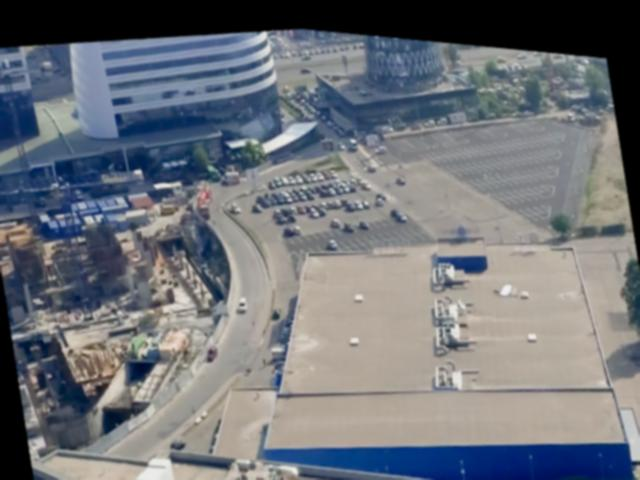plane: (490, 267, 520, 295)
